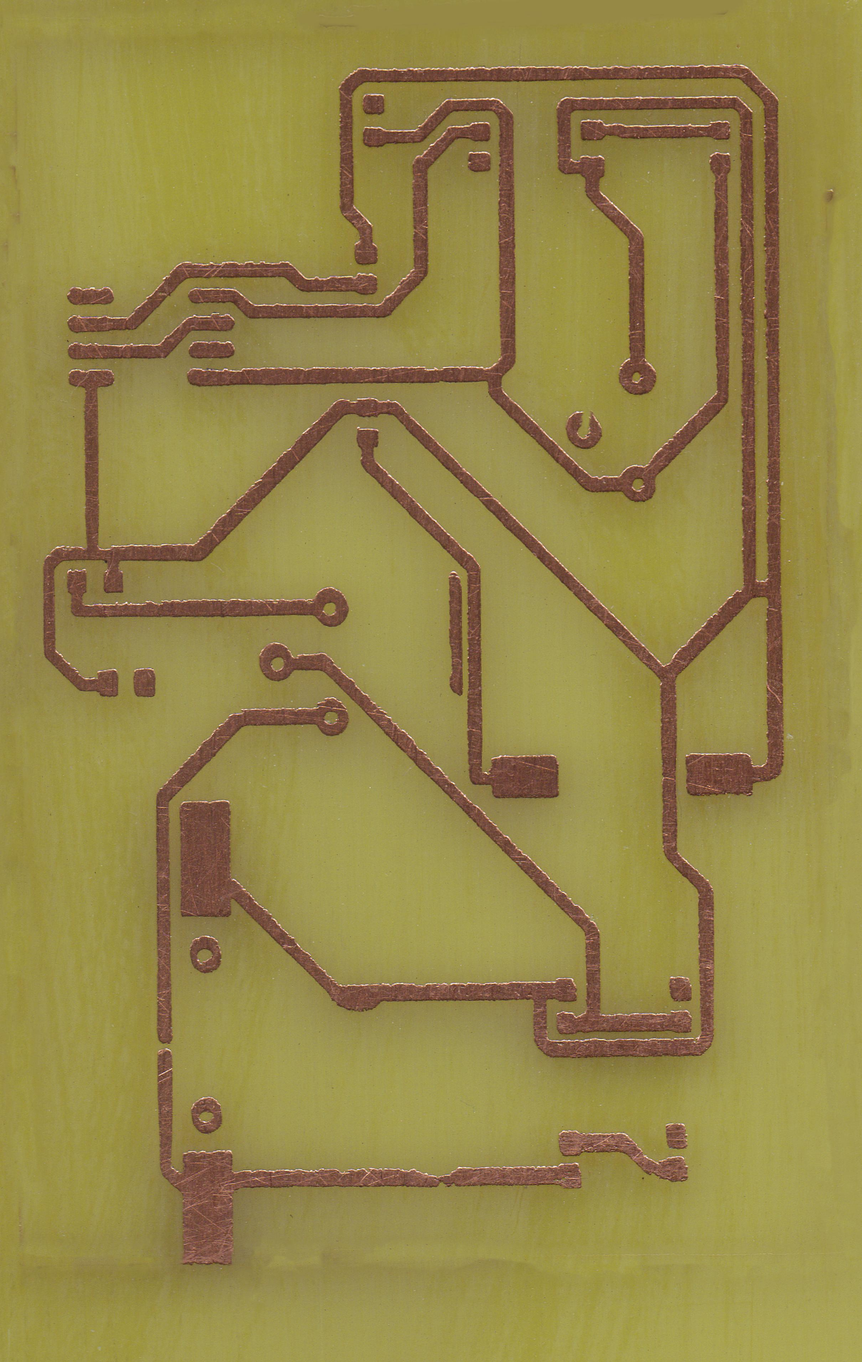missing_hole: (564, 411, 605, 450)
mouse_bite: (409, 1163, 470, 1191)
open_circuit: (155, 1032, 176, 1064)
short: (738, 574, 784, 603)
spur: (333, 974, 387, 1017)
spurious_copper: (443, 569, 465, 700)
